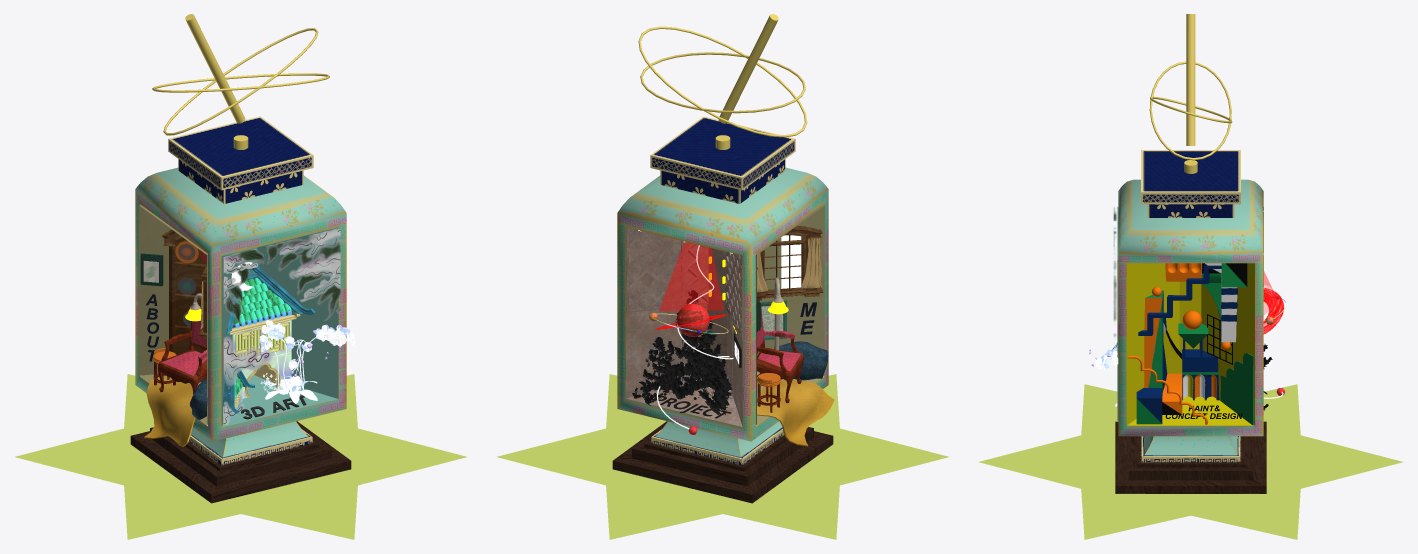
The model's file is for-website.glb.
3 views of the same model, side by side, from view 1: azimuth 30°, elevation 25°; view 2: azimuth 150°, elevation 25°; view 3: azimuth 270°, elevation 25° (orthographic). The views are drawn at different scales.
Visible parts, largest first — view 1: Star002, Box005, Object028.001, Box004, Box006, Shape016, Object018, Box038, orchid_pink001, Object028, GreenChair_002, Box009 (+3 smaller); view 2: Star002, Box005, Object026, Box004, Box006, Object018, Object022, Cylinder062, Box038, window001, leaves004, GreenChair_002 (+13 smaller); view 3: Star002, Box005, Object027, Box004, Box006, Box091, Box089, Line006, Cylinder004, Box087, Box100, Shape011 (+6 smaller).
Boxes of the visible parts, x1,y1,x2,y2 form: Star002: [15, 374, 466, 539]; Box005: [135, 167, 346, 441]; Object028.001: [222, 227, 355, 427]; Box004: [130, 421, 351, 503]; Box006: [168, 116, 313, 203]; Shape016: [222, 228, 340, 424]; Object018: [138, 205, 207, 424]; Box038: [144, 377, 197, 446]; orchid_pink001: [259, 320, 354, 403]; Object028: [221, 239, 292, 426]; GreenChair_002: [158, 308, 206, 393]; Box009: [169, 237, 206, 354]; Star002: [497, 374, 948, 539]; Box005: [617, 167, 828, 441]; Object026: [626, 227, 742, 426]; Box004: [612, 421, 833, 503]; Box006: [650, 116, 795, 203]; Object018: [727, 205, 824, 424]; Object022: [626, 227, 708, 312]; Cylinder062: [659, 242, 723, 311]; Box038: [757, 379, 834, 446]; window001: [757, 234, 823, 300]; leaves004: [651, 290, 725, 399]; GreenChair_002: [757, 310, 803, 403]; Star002: [978, 384, 1403, 539]; Box005: [1118, 179, 1263, 436]; Object027: [1126, 263, 1254, 425]; Box004: [1115, 421, 1266, 493]; Box006: [1141, 150, 1240, 217]; Box091: [1144, 290, 1167, 395]; Box089: [1182, 349, 1219, 400]; Line006: [1220, 353, 1253, 425]; Cylinder004: [1186, 14, 1195, 145]; Box087: [1136, 388, 1162, 424]; Box100: [1221, 274, 1237, 342]; Shape011: [1138, 265, 1221, 335].
Size of the model in its own units: 162 by 206 by 186.
6 materials, 6 textured.
